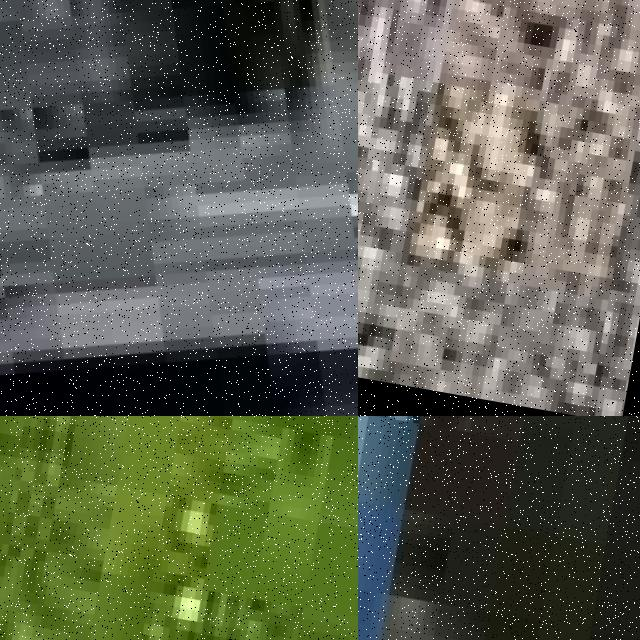drone: (0, 0, 358, 416)
